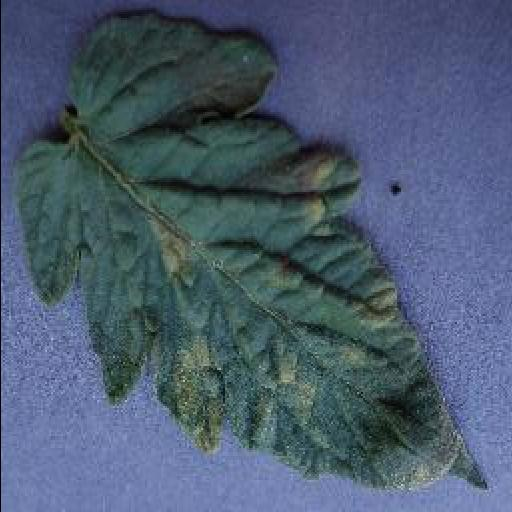disease_tomato: (13, 11, 487, 491)
